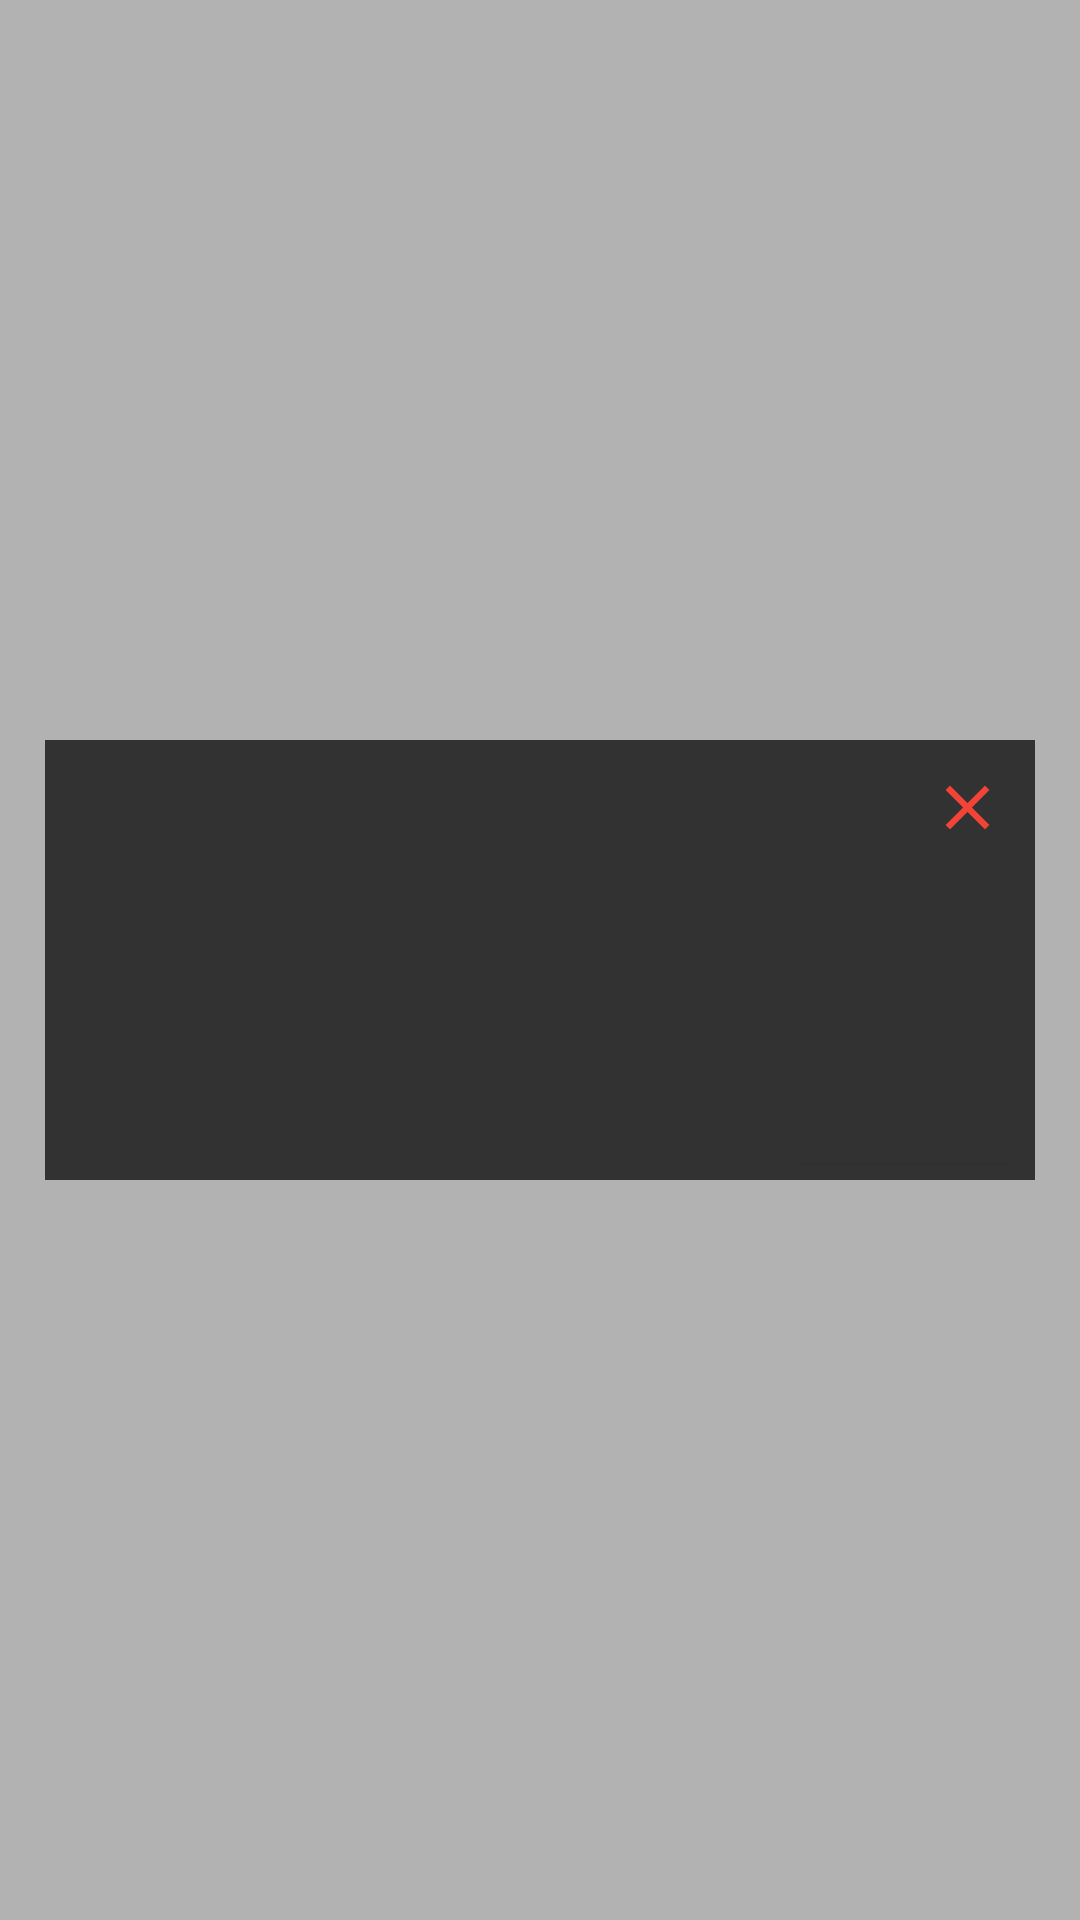

Where to tap for icons on this 1080w x 1920h app screen, as point (x, y):
close: point (967, 807)
